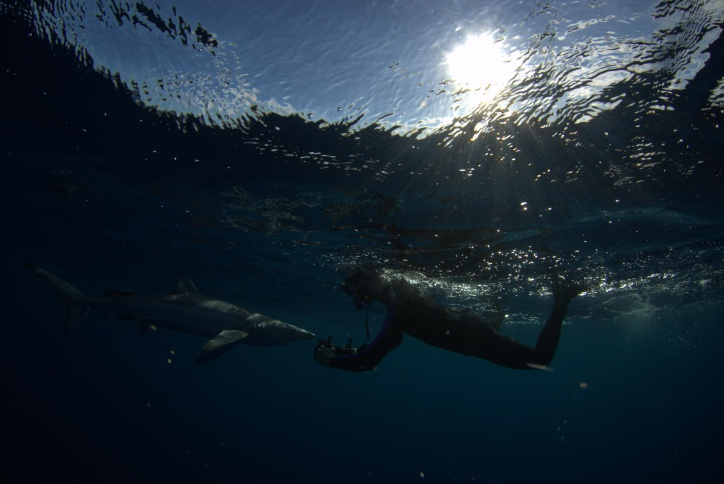Azul: (19, 241, 341, 385)
